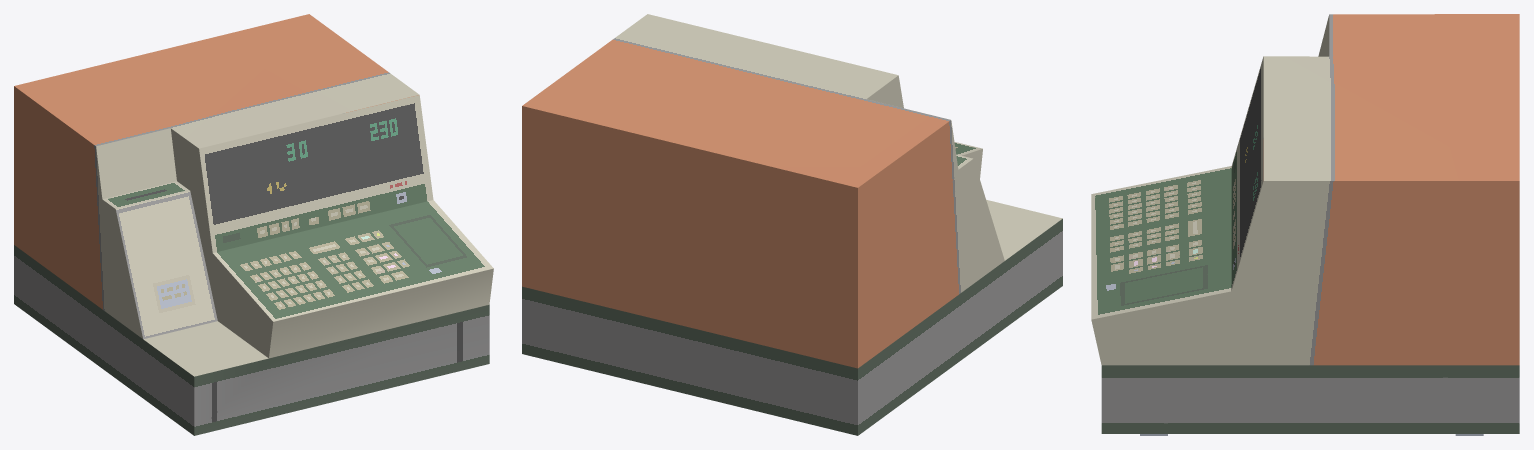
Rendered from 0432_Cash_Register.glb.
The picture shows the model from 3 angles, left to right: view 1: azimuth 30°, elevation 25°; view 2: azimuth 150°, elevation 25°; view 3: azimuth 270°, elevation 25°; orthographic projection. The views are drawn at different scales.
Visible parts, largest first — view 1: part_0; view 2: part_0; view 3: part_0.
Part boxes in pixels (x1,y1,x2,y2): part_0: [14, 14, 493, 435]; part_0: [522, 14, 1062, 435]; part_0: [1091, 14, 1519, 435].
Size of the model in its own units: 0.2387 by 0.1773 by 0.2586.
1 material, 1 textured.
